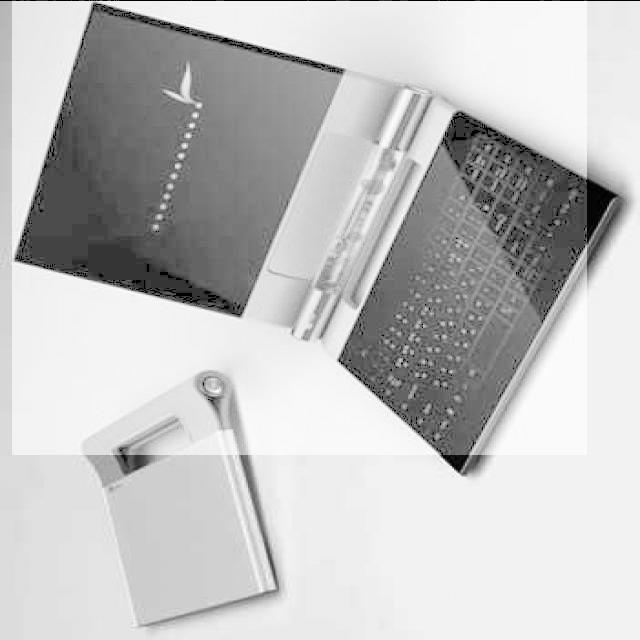-keyboard-: (12, 0, 587, 455)
